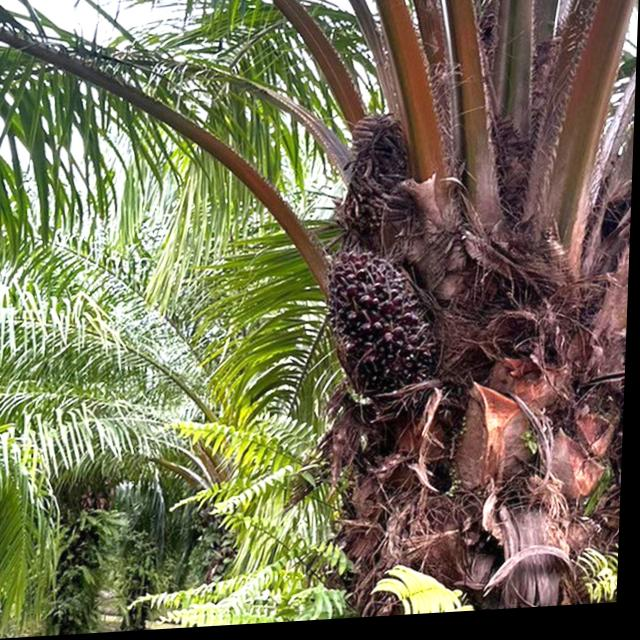ripe: (312, 233, 439, 415)
